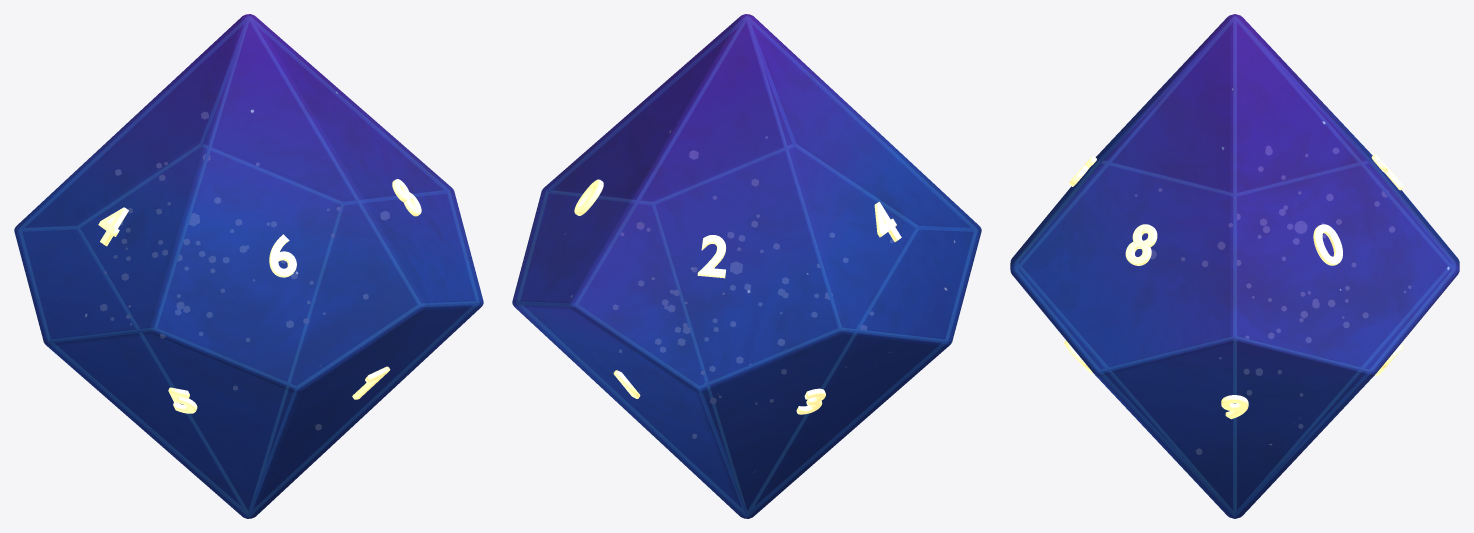
The model's file is D10_个位骰_0-9_星穹_baked.glb.
3 views of the same model, side by side, from view 1: azimuth 30°, elevation 25°; view 2: azimuth 150°, elevation 25°; view 3: azimuth 270°, elevation 25° (orthographic).
Visible parts, largest first — view 1: D10_0_9_Body_10_Faces, D10_0_9_Galaxy_Clean_Edge_Divider_v6, D10_0_9_Clustered_StarDust_v5, D10_0_9_Face_07_6, D10_0_9_Face_05_4, D10_0_9_Face_09_8; view 2: D10_0_9_Body_10_Faces, D10_0_9_Galaxy_Clean_Edge_Divider_v6, D10_0_9_Clustered_StarDust_v5, D10_0_9_Face_03_2, D10_0_9_Face_05_4, D10_0_9_Face_01_0; view 3: D10_0_9_Body_10_Faces, D10_0_9_Galaxy_Clean_Edge_Divider_v6, D10_0_9_Clustered_StarDust_v5, D10_0_9_Face_09_8, D10_0_9_Face_01_0, D10_0_9_Face_10_9.
Part boxes in pixels (x1,y1,x2,y2): D10_0_9_Body_10_Faces: (14, 14, 483, 518); D10_0_9_Galaxy_Clean_Edge_Divider_v6: (19, 16, 478, 516); D10_0_9_Clustered_StarDust_v5: (100, 112, 389, 429); D10_0_9_Face_07_6: (269, 234, 296, 277); D10_0_9_Face_05_4: (98, 207, 128, 246); D10_0_9_Face_09_8: (392, 179, 421, 216); D10_0_9_Body_10_Faces: (512, 14, 981, 518); D10_0_9_Galaxy_Clean_Edge_Divider_v6: (517, 16, 976, 516); D10_0_9_Clustered_StarDust_v5: (613, 137, 892, 437); D10_0_9_Face_03_2: (697, 235, 726, 278); D10_0_9_Face_05_4: (874, 201, 901, 241); D10_0_9_Face_01_0: (574, 179, 603, 215); D10_0_9_Body_10_Faces: (1010, 14, 1459, 518); D10_0_9_Galaxy_Clean_Edge_Divider_v6: (1015, 16, 1454, 516); D10_0_9_Clustered_StarDust_v5: (1135, 146, 1410, 454); D10_0_9_Face_09_8: (1125, 224, 1157, 265); D10_0_9_Face_01_0: (1313, 224, 1342, 265); D10_0_9_Face_10_9: (1221, 395, 1248, 419).
Bounding box in the file's own units: 3.56 × 4.18 × 3.39.
4 materials, 1 textured.
